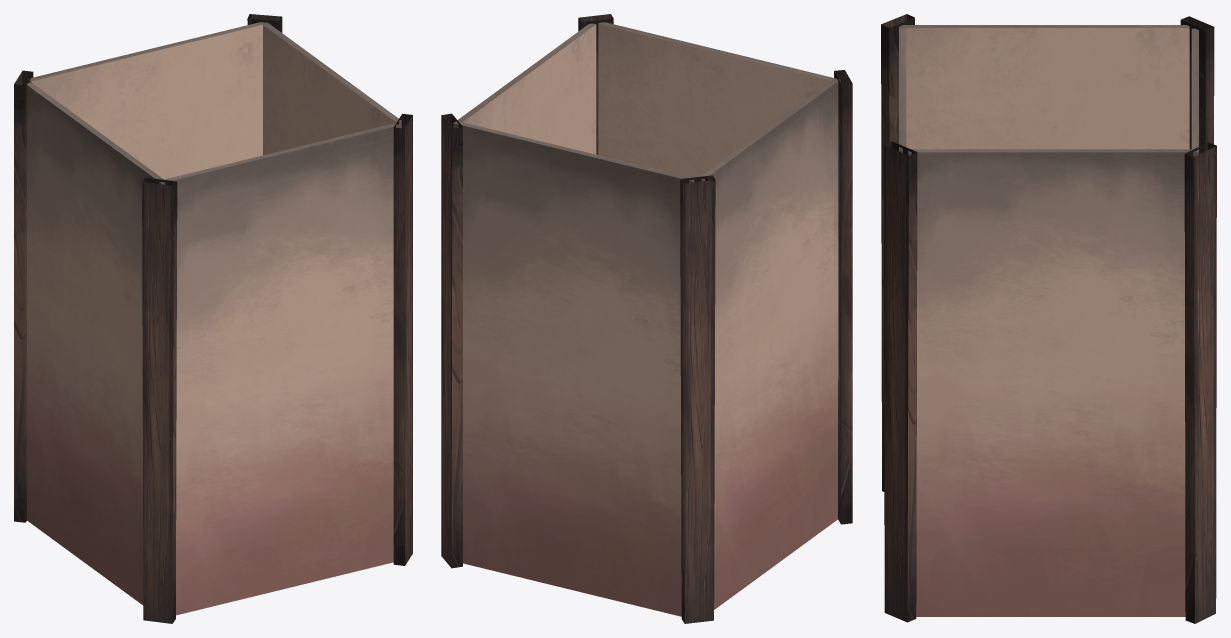
Rendered from Wall_Mid_Pillar_LOD1.fbx.
3 renders of one model, left to right at view 1: azimuth 30°, elevation 25°; view 2: azimuth 150°, elevation 25°; view 3: azimuth 270°, elevation 25°, orthographic. The views are drawn at different scales.
Visible parts, largest first — view 1: Pillar_Mid_LOD1; view 2: Pillar_Mid_LOD1; view 3: Pillar_Mid_LOD1.
Boxes of the visible parts, x1,y1,x2,y2 form: Pillar_Mid_LOD1: [14, 14, 412, 623]; Pillar_Mid_LOD1: [441, 14, 852, 623]; Pillar_Mid_LOD1: [881, 14, 1216, 623].
Size of the model in its own units: 0.0277 by 0.0422 by 0.0275.
